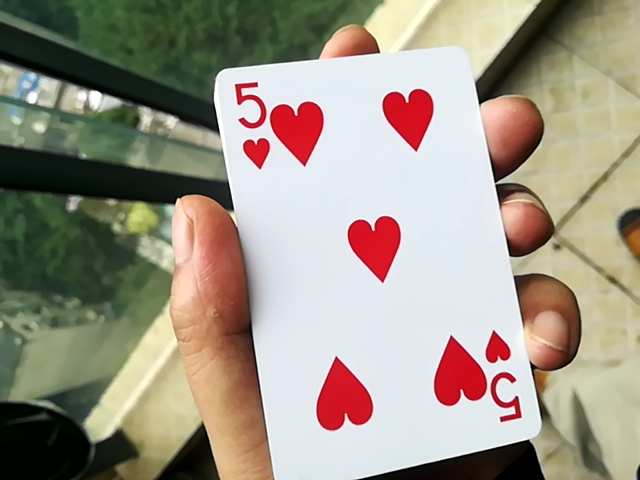hx 5: (200, 48, 549, 480)
